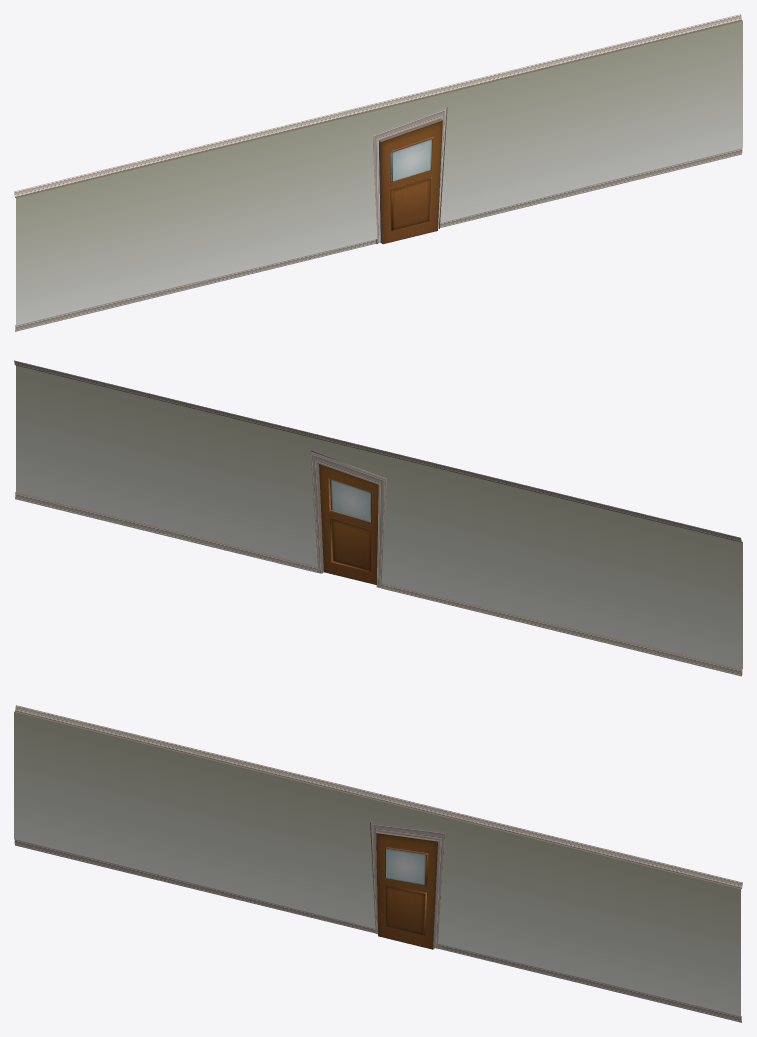
The model's file is Office_Wall_F.fbx.
The picture shows the model from 3 angles, top to bottom: view 1: azimuth 30°, elevation 25°; view 2: azimuth 150°, elevation 25°; view 3: azimuth 330°, elevation 25°; orthographic projection.
Visible parts, largest first — view 1: wall_F; view 2: wall_F; view 3: wall_F.
Boxes of the visible parts, x1,y1,x2,y2 form: wall_F: (14, 14, 742, 331); wall_F: (14, 360, 742, 676); wall_F: (14, 705, 742, 1022).
Size of the model in its own units: 1872 by 343 by 18.21.
Materials: 4 (4 with a texture image).
